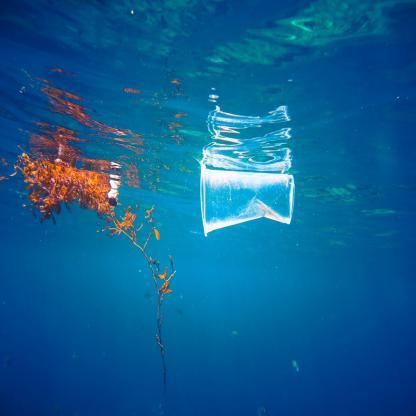Rác: (195, 156, 301, 232)
